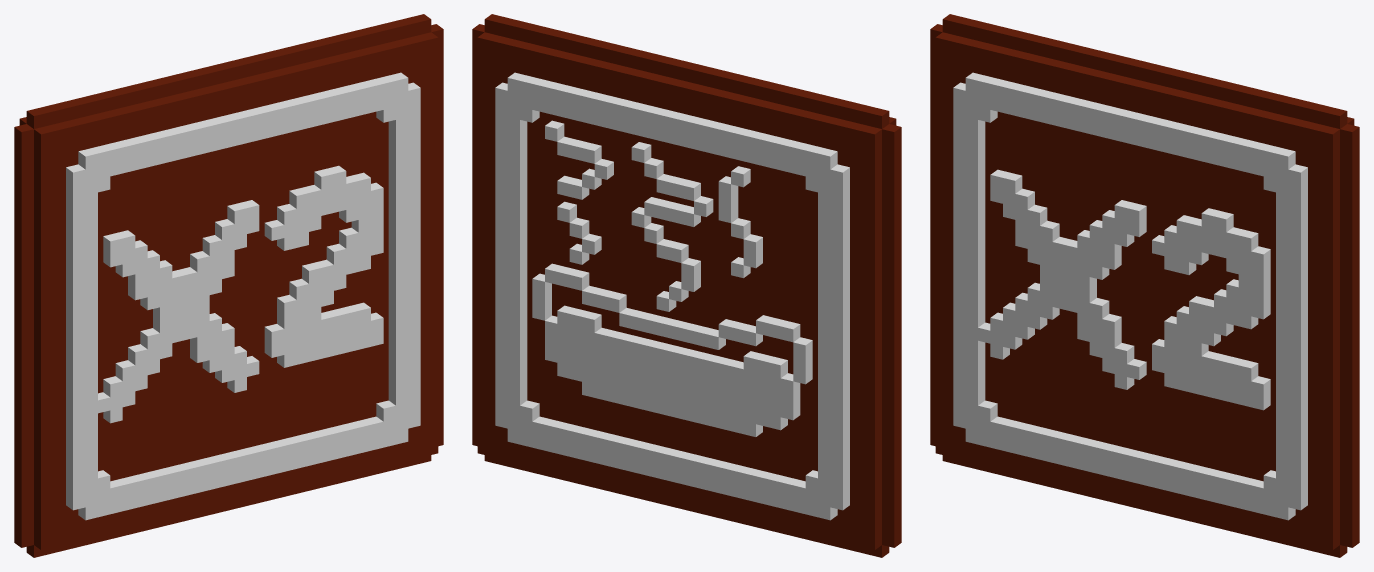
Rendered from powerup_hotdog.fbx.
The picture shows the model from 3 angles, left to right: view 1: azimuth 30°, elevation 25°; view 2: azimuth 150°, elevation 25°; view 3: azimuth 330°, elevation 25°; orthographic projection.
Parts seen in each view (by area): view 1: polySurface1; view 2: polySurface1; view 3: polySurface1.
Boxes of the visible parts, x1,y1,x2,y2 form: polySurface1: (14,14,443,557); polySurface1: (472,14,901,557); polySurface1: (930,14,1359,557).
Bounding box in the file's own units: 1.06 × 1.06 × 0.1562.
